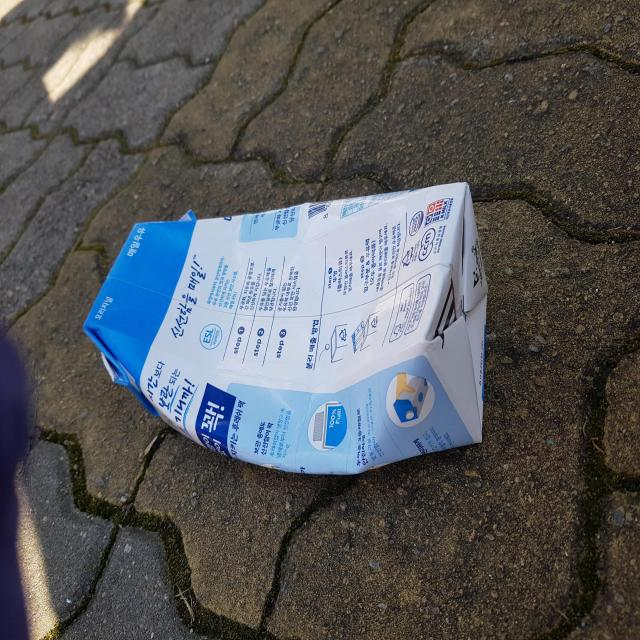paperpack: (83, 182, 488, 475)
